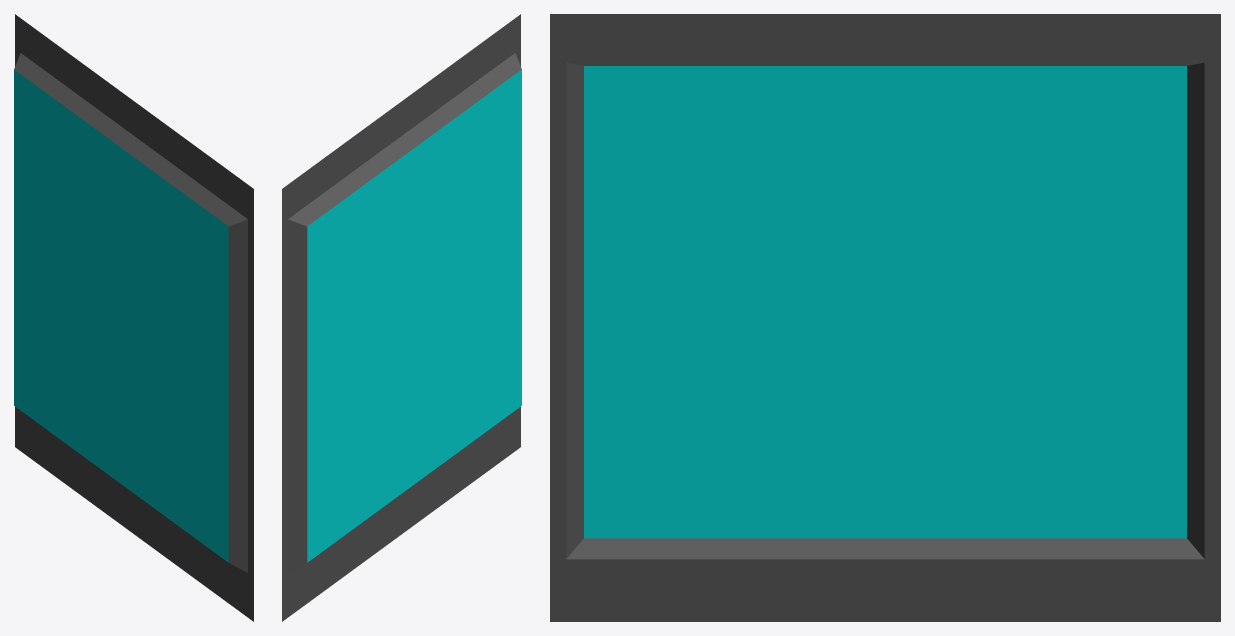
Rendered from milit_wall_window_01_LOD0.fbx.
3 views of the same model, side by side, from view 1: azimuth 30°, elevation 25°; view 2: azimuth 150°, elevation 25°; view 3: azimuth 270°, elevation 25° (orthographic). The views are drawn at different scales.
Parts seen in each view (by area): view 1: milit_wall_window_01_LOD0; view 2: milit_wall_window_01_LOD0; view 3: milit_wall_window_01_LOD0.
Boxes of the visible parts, left/top/right/bottom form: milit_wall_window_01_LOD0: left=14, top=14, right=253, bottom=621; milit_wall_window_01_LOD0: left=282, top=14, right=521, bottom=621; milit_wall_window_01_LOD0: left=550, top=14, right=1220, bottom=621.
Bounding box in the file's own units: 0.0941 × 3 × 3.
